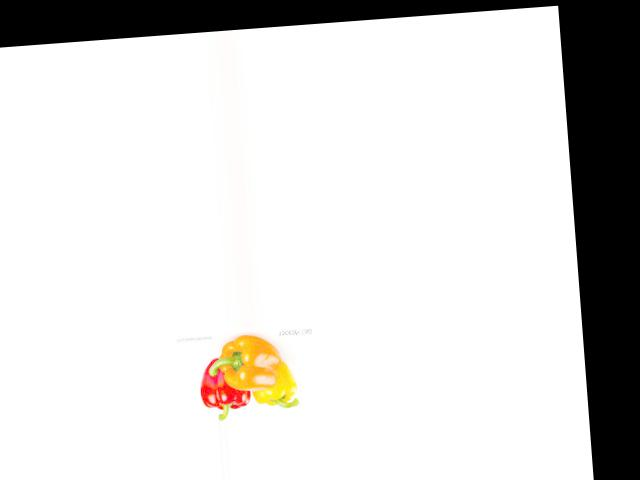bell_pepper: (248, 357, 302, 413)
